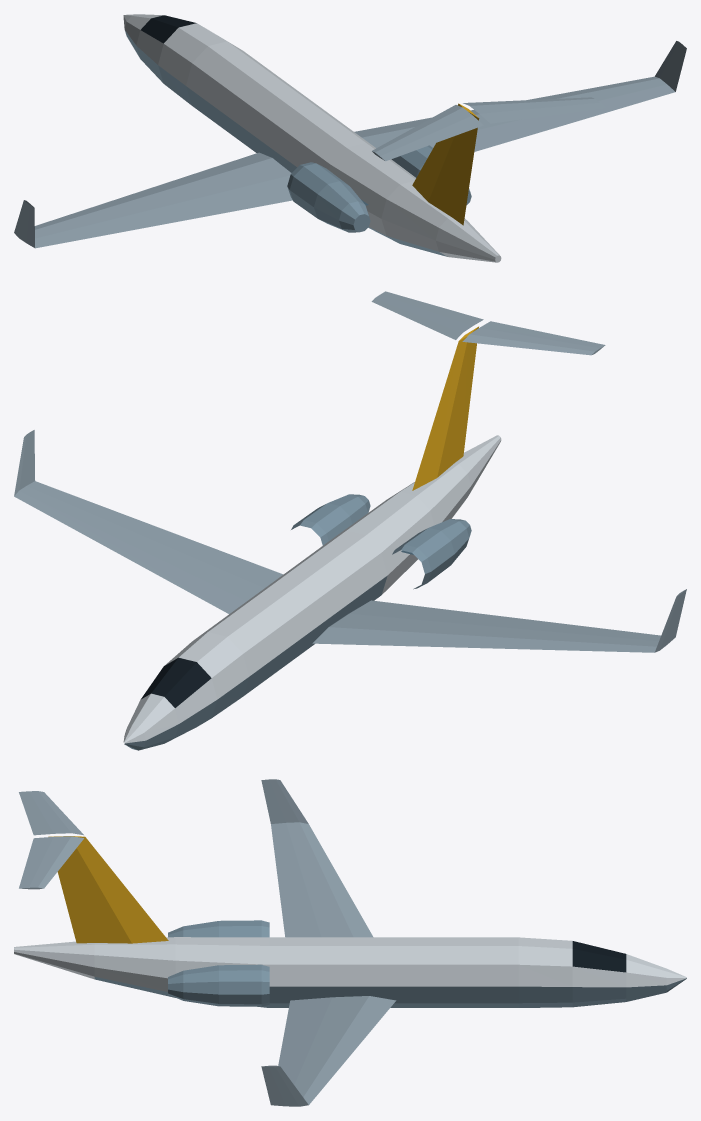
3 renders of one model, top to bottom at view 1: azimuth 30°, elevation 25°; view 2: azimuth 150°, elevation 25°; view 3: azimuth 270°, elevation 25°, orthographic. The views are drawn at different scales.
Parts seen in each view (by area): view 1: lod0; view 2: lod0; view 3: lod0.
Part boxes in pixels (x1,y1,x2,y2): lod0: (14,14,686,262); lod0: (14,291,686,750); lod0: (14,779,686,1106).
Size of what is drawn, in the model's own units: 1.01 by 0.2773 by 1.
